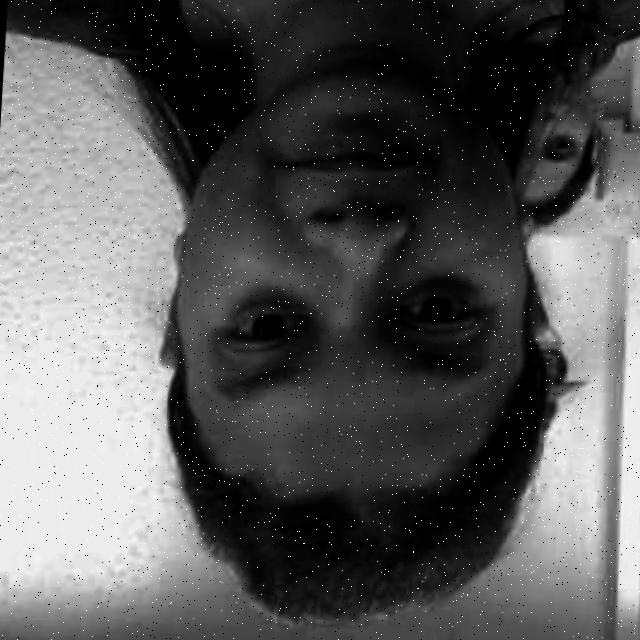puffy_eyes: (222, 293, 309, 327), (392, 278, 481, 302)
